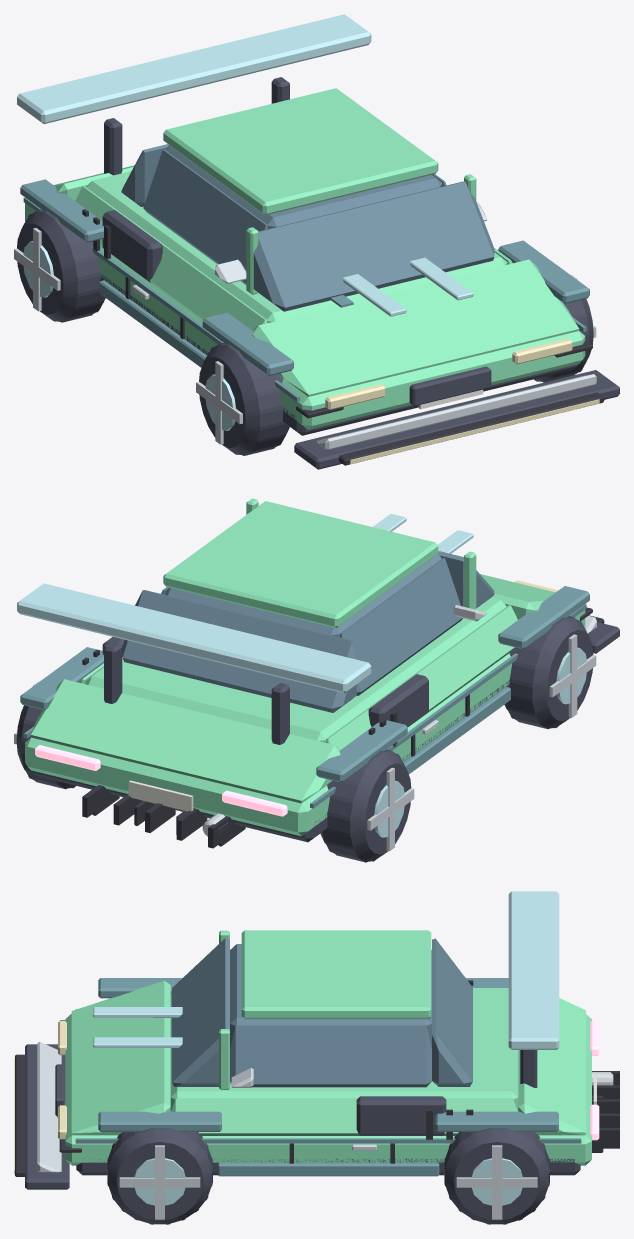
Rendered from paddock_pulse.fbx.
3 views of the same model, one above another, from view 1: azimuth 30°, elevation 25°; view 2: azimuth 150°, elevation 25°; view 3: azimuth 270°, elevation 25° (orthographic). The views are drawn at different scales.
Visible parts, largest first — view 1: Body, Glass, Accent3, Trim2, Accent, Wheel_FR, Wheel_RR, Accent2, Trim, Light, Metal, Light3 (+2 smaller); view 2: Body, Glass, Accent3, Accent, Trim2, Wheel_RR, Wheel_FR, Trim, Metal, Light2, Metal2, Accent4 (+3 smaller); view 3: Body, Glass, Accent, Trim2, Accent3, Wheel_FL, Wheel_RL, Trim, Metal, Accent2, Metal2, Light3 (+2 smaller).
Part boxes in pixels (box(x1,y1,x2,y2)): Body: box(25, 88, 585, 429); Glass: box(121, 99, 494, 311); Accent3: box(17, 14, 371, 123); Trim2: box(100, 77, 619, 469); Accent: box(20, 179, 589, 401); Wheel_FR: box(199, 343, 289, 455); Wheel_RR: box(17, 209, 105, 322); Accent2: box(215, 201, 596, 449); Trim: box(82, 209, 604, 465); Light: box(325, 338, 599, 464); Metal: box(14, 228, 596, 444); Light3: box(342, 257, 473, 316); Body: box(25, 498, 585, 836); Glass: box(122, 506, 494, 712); Accent3: box(17, 583, 371, 693); Accent: box(20, 586, 589, 808); Trim2: box(32, 622, 619, 842); Wheel_RR: box(320, 749, 411, 862); Wheel_FR: box(504, 616, 593, 729); Trim: box(82, 607, 604, 848); Metal: box(14, 634, 596, 851); Light2: box(35, 745, 287, 816); Metal2: box(374, 647, 586, 837); Accent4: box(128, 780, 193, 811); Body: box(65, 930, 591, 1165); Glass: box(172, 938, 472, 1087); Accent: box(75, 978, 581, 1176); Trim2: box(25, 1044, 580, 1189); Accent3: box(230, 891, 559, 1084); Wheel_FL: box(107, 1128, 212, 1224); Wheel_RL: box(444, 1128, 549, 1224); Trim: box(15, 980, 619, 1176); Metal: box(119, 1072, 613, 1219); Accent2: box(37, 1042, 253, 1172); Metal2: box(134, 1158, 522, 1205); Light3: box(93, 1007, 182, 1047).
Bounding box in the file's own units: 3.4 × 1.83 × 5.41.
